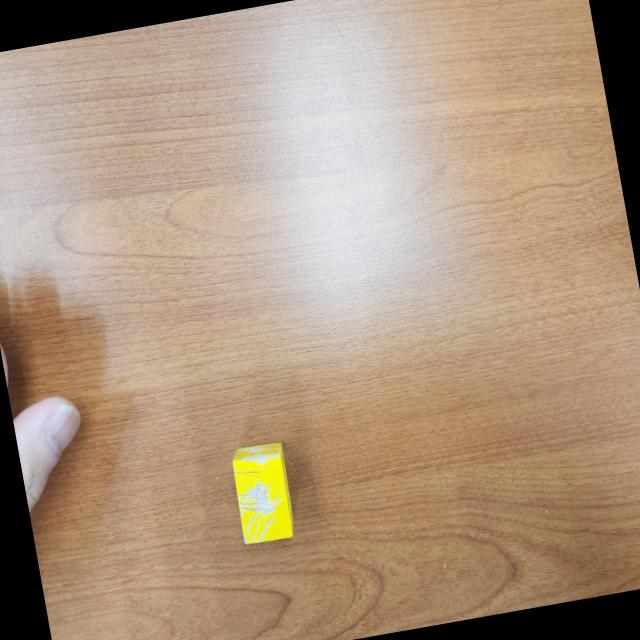broken: (228, 440, 297, 546)
